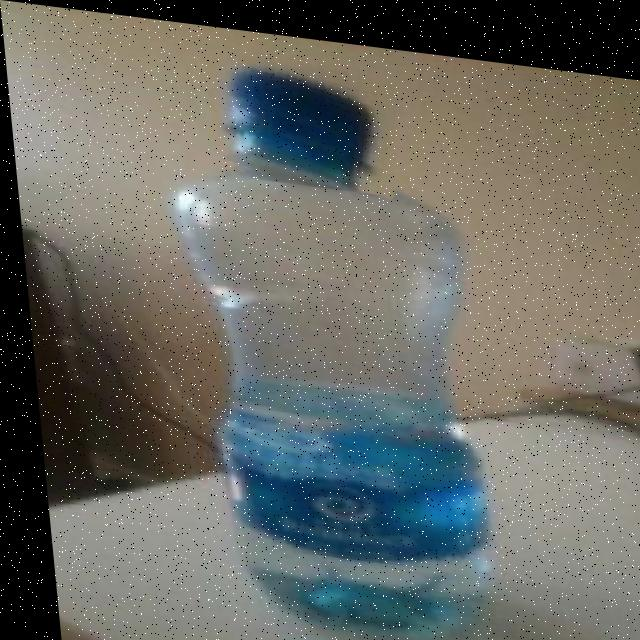plasticbottlecap: (213, 47, 402, 188)
